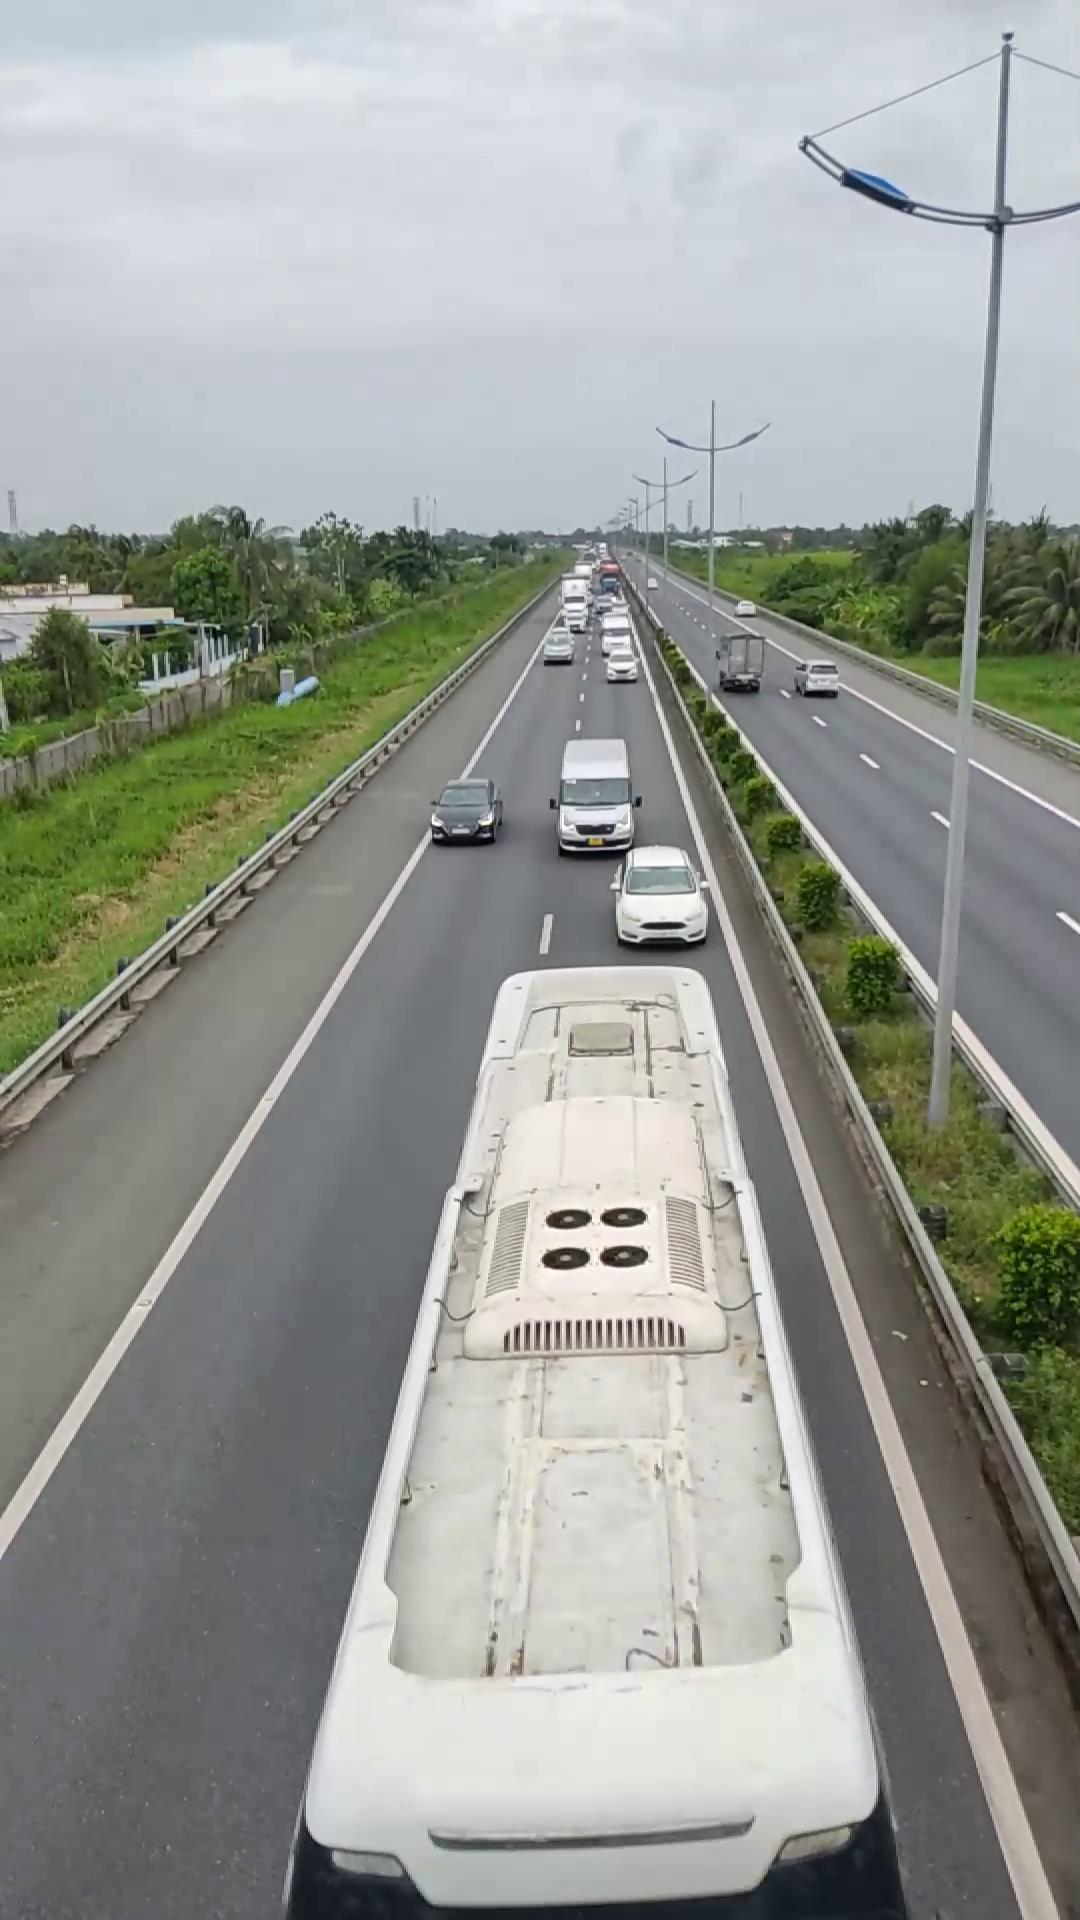bus: (295, 944, 902, 1916)
car: (549, 737, 640, 855), (610, 844, 711, 948), (429, 776, 502, 844)
